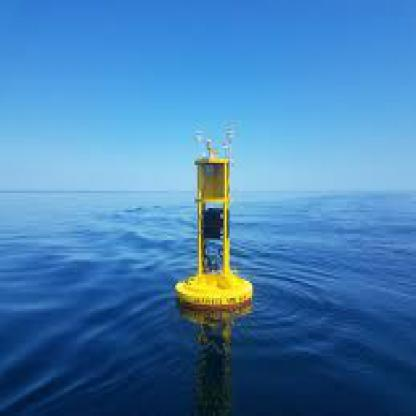buoy: (164, 124, 257, 318)
